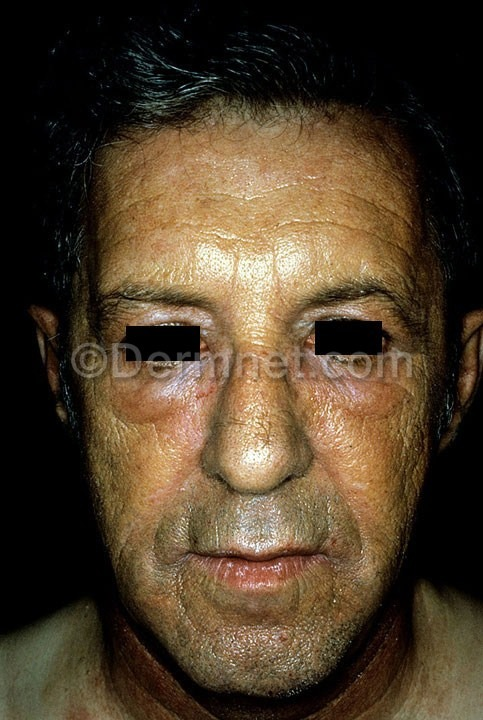Melasma: (89, 382, 427, 451), (126, 422, 194, 608), (176, 615, 332, 695), (317, 431, 367, 632), (115, 628, 174, 720), (333, 670, 374, 720), (374, 626, 406, 674)
